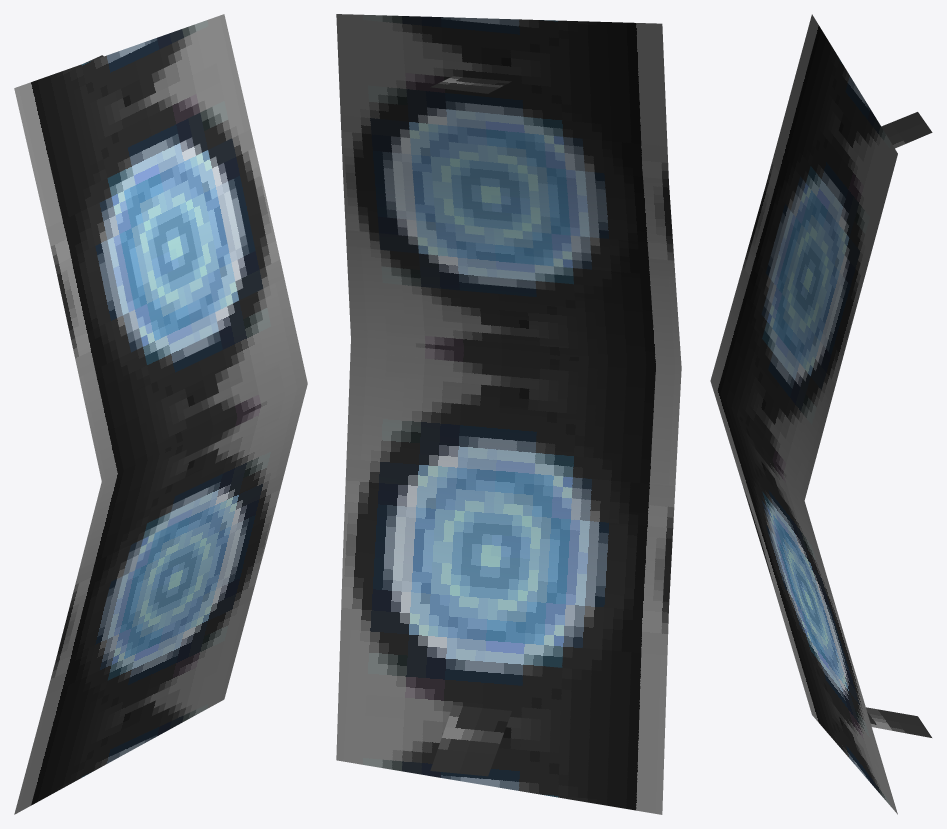
The model's file is acc_glass_rimmed.dae.
3 renders of one model, left to right at view 1: azimuth 30°, elevation 25°; view 2: azimuth 150°, elevation 25°; view 3: azimuth 270°, elevation 25°, orthographic. The views are drawn at different scales.
Visible parts, largest first — view 1: acc_glass_rimmed; view 2: acc_glass_rimmed; view 3: acc_glass_rimmed.
Part boxes in pixels (<box>): acc_glass_rimmed: <box>14,14,307,814</box>; acc_glass_rimmed: <box>336,14,681,814</box>; acc_glass_rimmed: <box>710,14,932,814</box>.
Bounding box in the file's own units: 9.57 × 22.93 × 6.59.
1 material, 1 textured.
